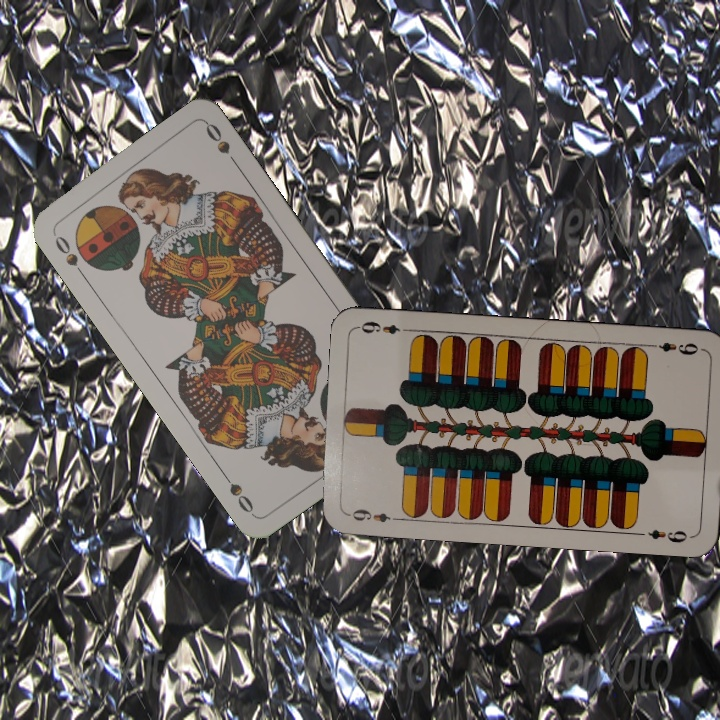E9: (645, 338, 704, 358), (344, 505, 403, 525)
SO: (49, 228, 88, 280)
